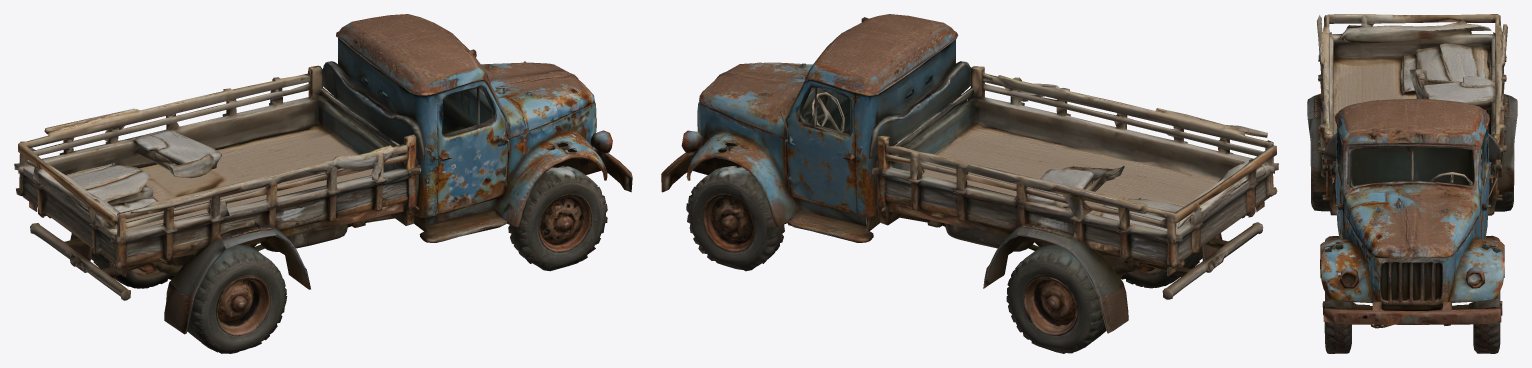
Rendered from zil_wreck.glb.
3 views of the same model, side by side, from view 1: azimuth 30°, elevation 25°; view 2: azimuth 150°, elevation 25°; view 3: azimuth 270°, elevation 25° (orthographic). The views are drawn at different scales.
Parts seen in each view (by area): view 1: zil_wreck; view 2: zil_wreck; view 3: zil_wreck.
Part boxes in pixels (bbox=[...]): zil_wreck: bbox=[14, 14, 632, 353]; zil_wreck: bbox=[661, 14, 1278, 353]; zil_wreck: bbox=[1307, 14, 1517, 353].
Size of the model in its own units: 6.6 by 2.68 by 2.61.
1 material, 1 textured.
